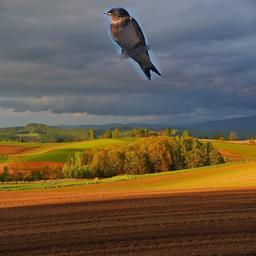Swallow: (104, 7, 161, 80)
